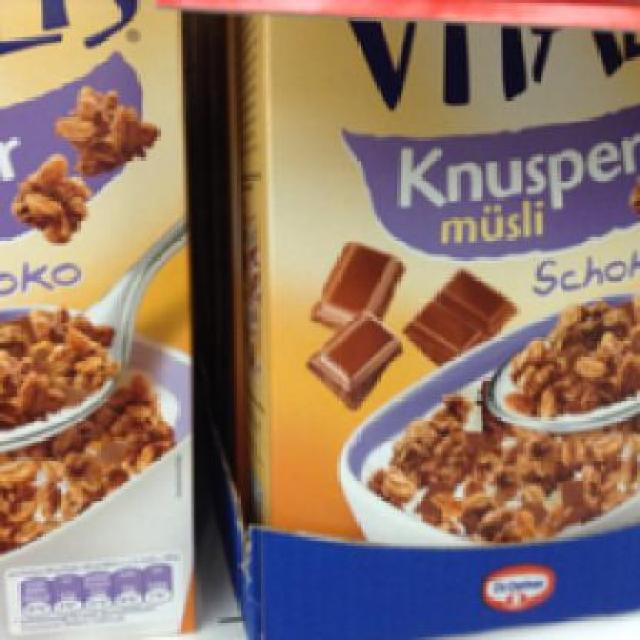Cereal: (234, 11, 637, 558)
